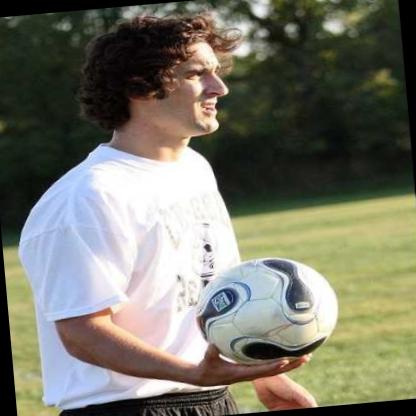ball: (192, 251, 342, 370)
